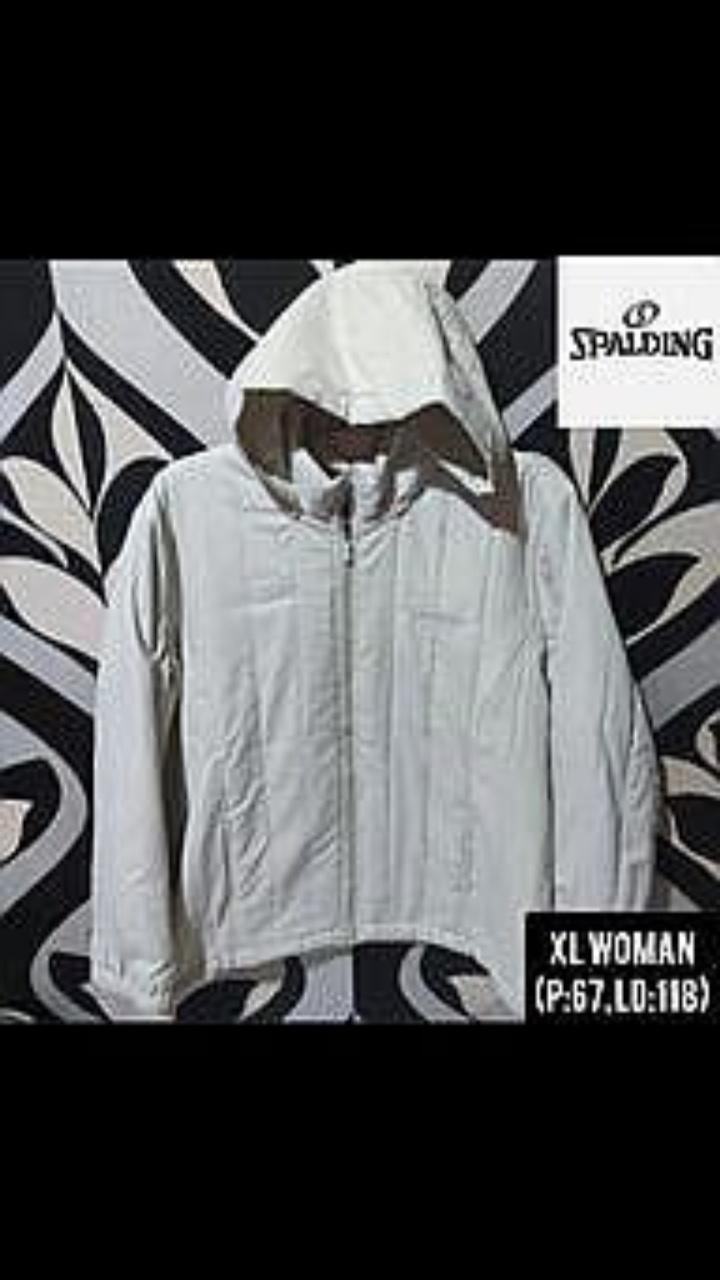Sports_Jacket: (91, 261, 659, 1016)
